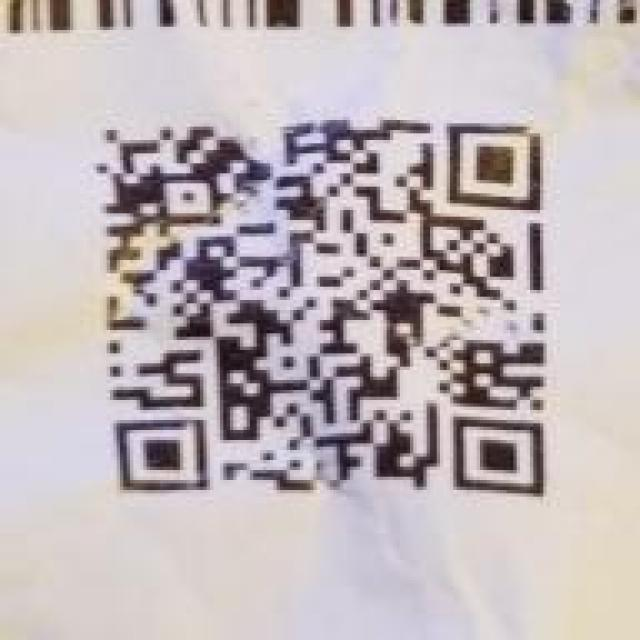qr_code: (95, 118, 545, 496)
